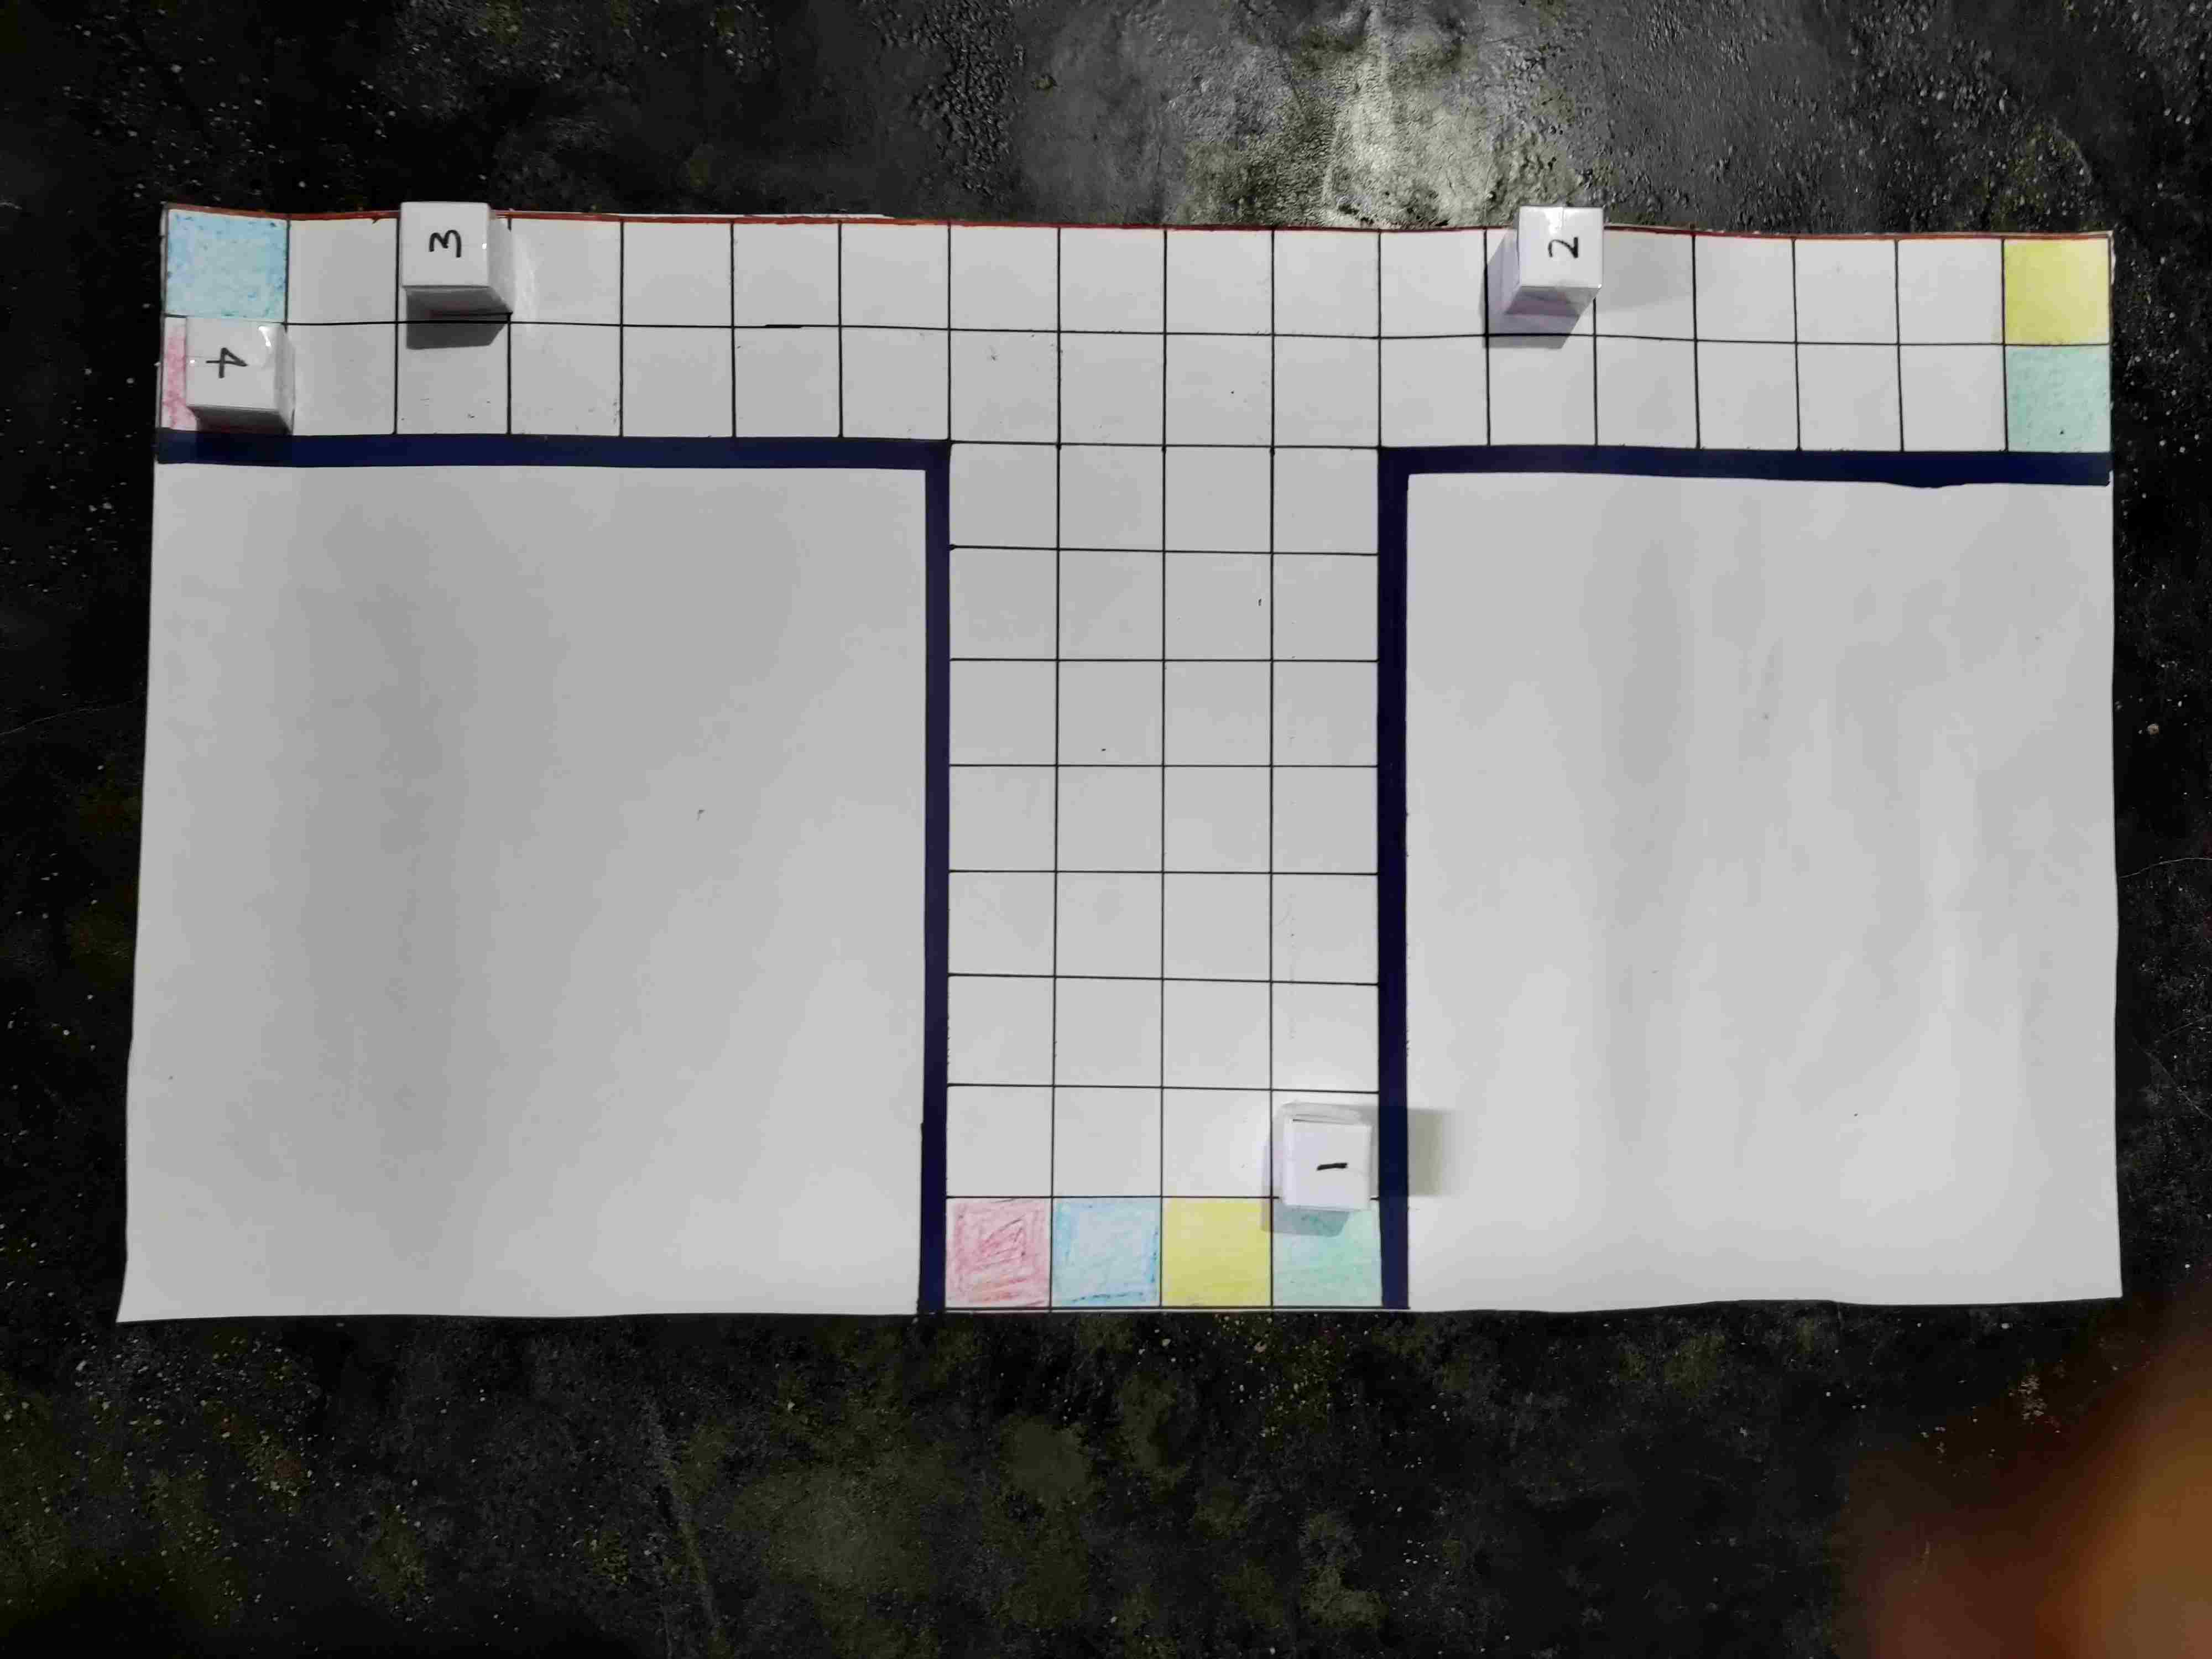arena: (185, 272, 2125, 1359)
bot: (1136, 1152, 1216, 1237), (1244, 1154, 1327, 1230), (895, 1131, 972, 1211), (1007, 1154, 1087, 1230)
